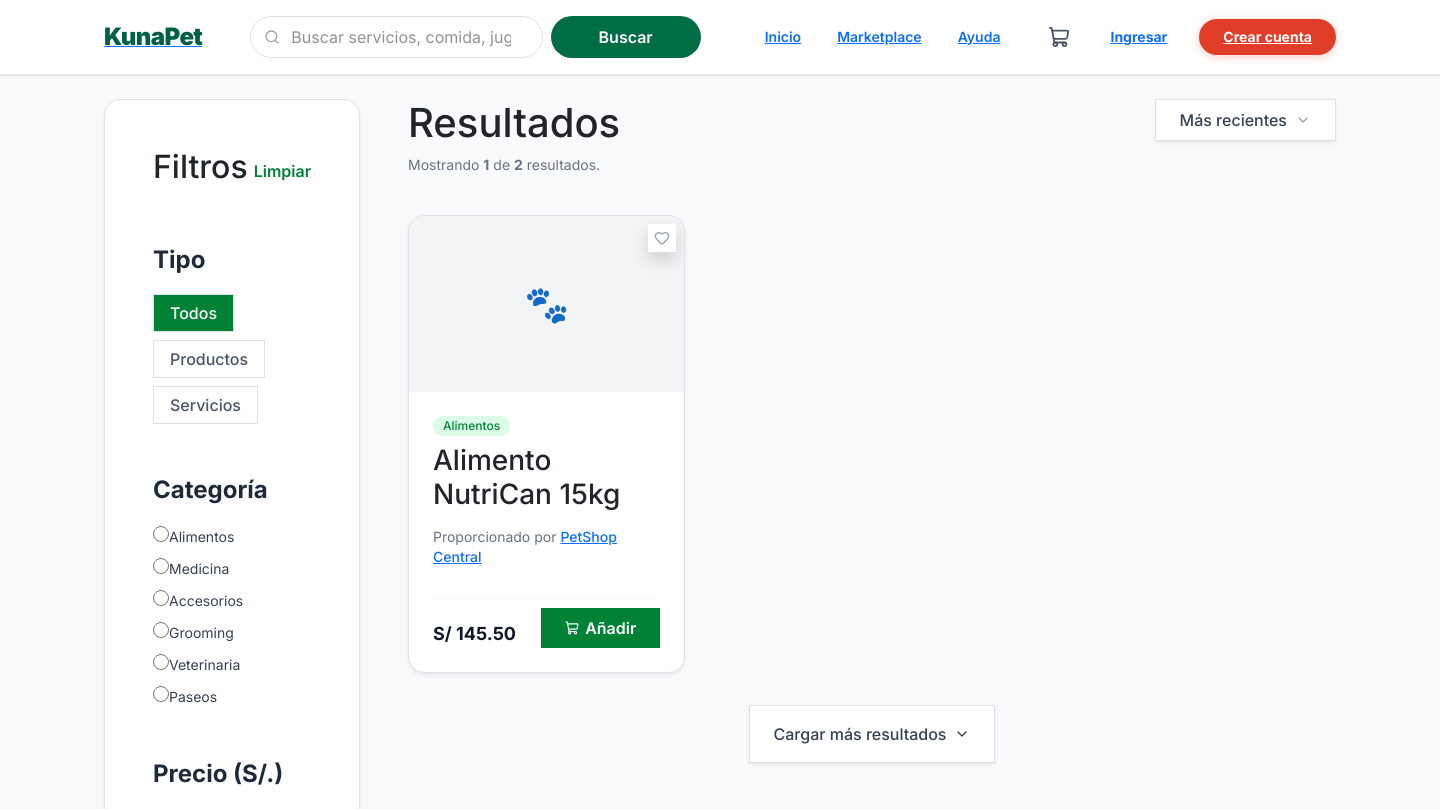
Test case: Marketplace conectado a la API › "Cargar más" pide la página siguiente, agrega sin duplicar y desaparece al terminar
Expected: the heading "Alimento NutriCan 15kg" is shown, x1=433 y1=443 x2=620 y2=511
Expected: the text "Mostrando 1 de 2 resultados." is shown, x1=408 y1=155 x2=620 y2=175
What coordinates should you click on to do the following:
click the button "Cargar más resultados"
I would click on:
 (872, 734)
Its box is x1=748 y1=705 x2=995 y2=763.
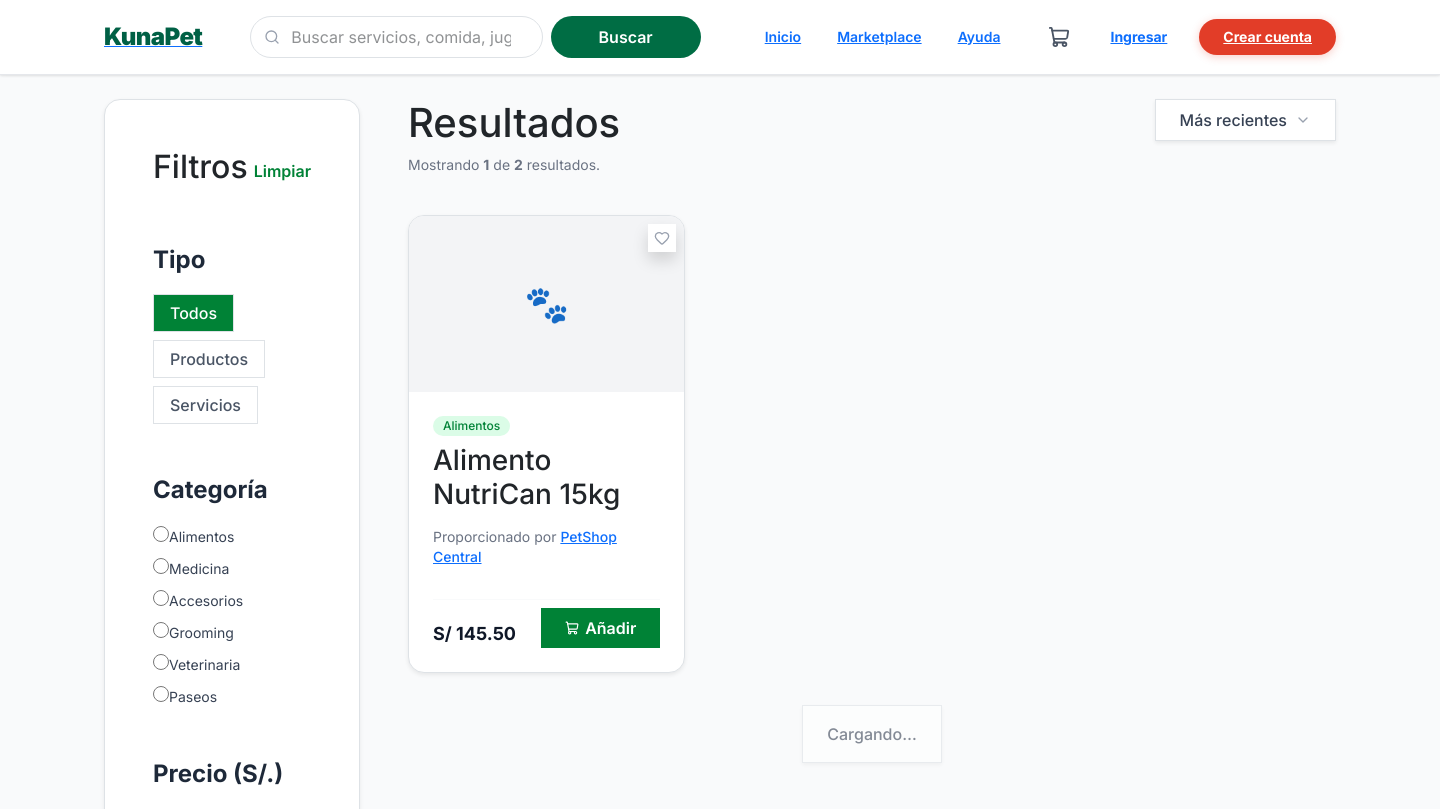
What coordinates should you click on to do the following:
click the button named "Cargar más resultados"
I would click on:
 (872, 734)
Its box is x1=802 y1=705 x2=942 y2=763.
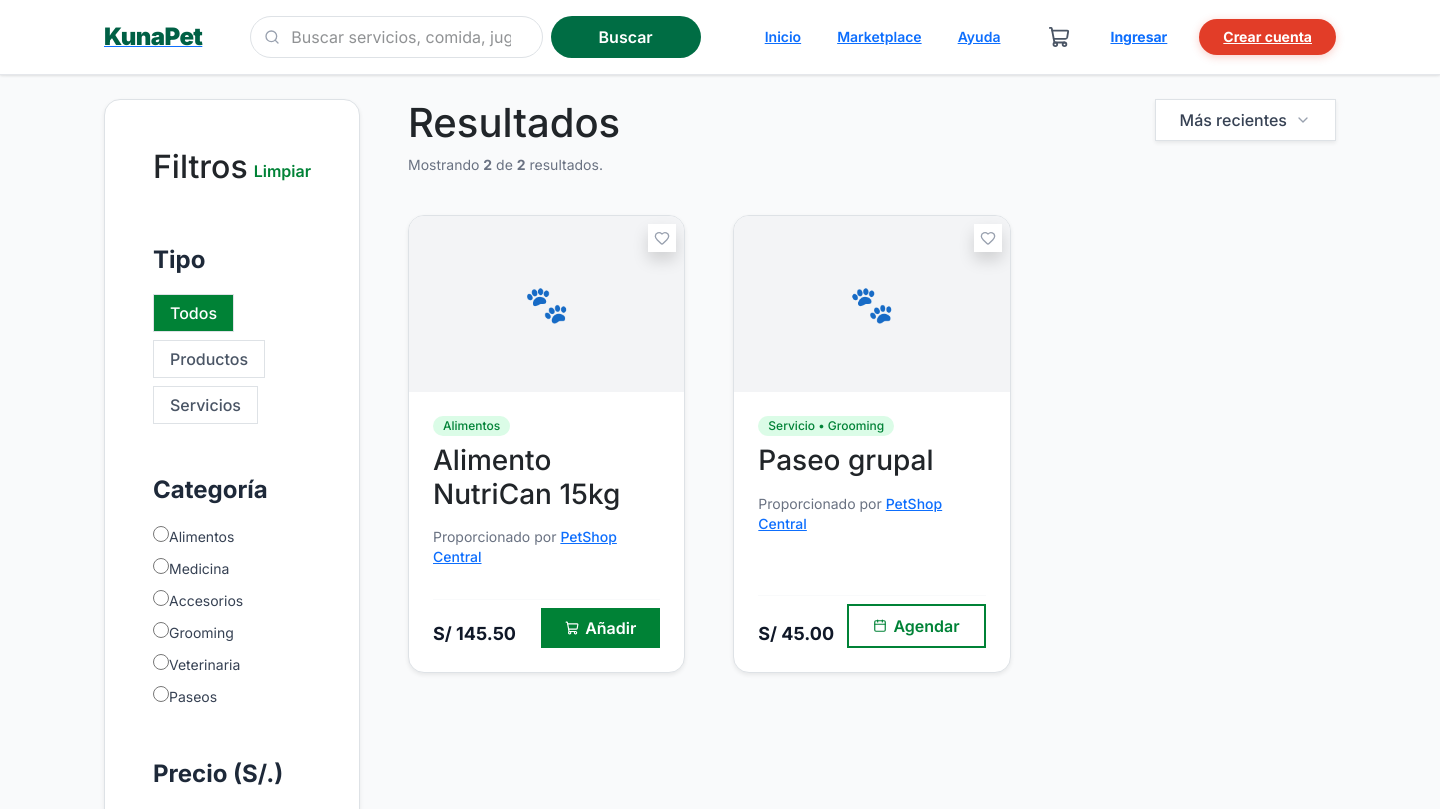
Expected: the number of headings "Alimento NutriCan 15kg" is 1, x1=433 y1=443 x2=620 y2=511
Now the heading "Paseo grupal" is shown, box x1=758 y1=443 x2=934 y2=477
